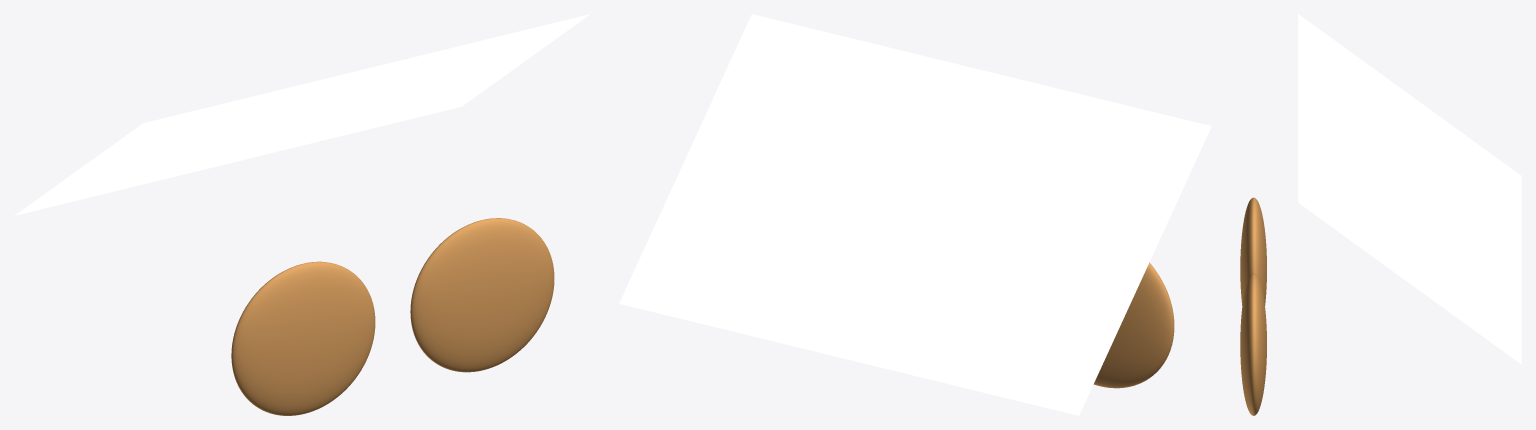
The model's file is sss_samples.glb.
3 views of the same model, side by side, from view 1: azimuth 30°, elevation 25°; view 2: azimuth 150°, elevation 25°; view 3: azimuth 270°, elevation 25° (orthographic). The views are drawn at different scales.
Parts seen in each view (by area): view 1: Softbox, Opaque reference, Wax sample; view 2: Softbox, Opaque reference; view 3: Softbox, Wax sample, Opaque reference.
Boxes of the visible parts, x1=… form: Softbox: x1=14, y1=14, x2=590, y2=215; Opaque reference: x1=231, y1=261, x2=375, y2=415; Wax sample: x1=410, y1=218, x2=554, y2=372; Softbox: x1=619, y1=14, x2=1211, y2=415; Opaque reference: x1=1093, y1=262, x2=1174, y2=388; Softbox: x1=1298, y1=14, x2=1521, y2=364; Wax sample: x1=1240, y1=273, x2=1266, y2=415; Opaque reference: x1=1240, y1=197, x2=1266, y2=305.
Size of what is drawn, in the model's own units: 10 by 6.5 by 6.3.
